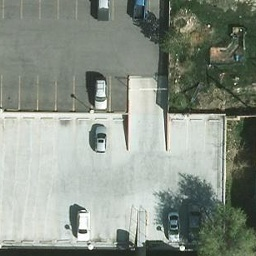car: (92, 76, 108, 112), (165, 209, 180, 245), (190, 203, 205, 238), (76, 208, 91, 241), (93, 125, 108, 155), (131, 1, 149, 19), (94, 1, 111, 20)
